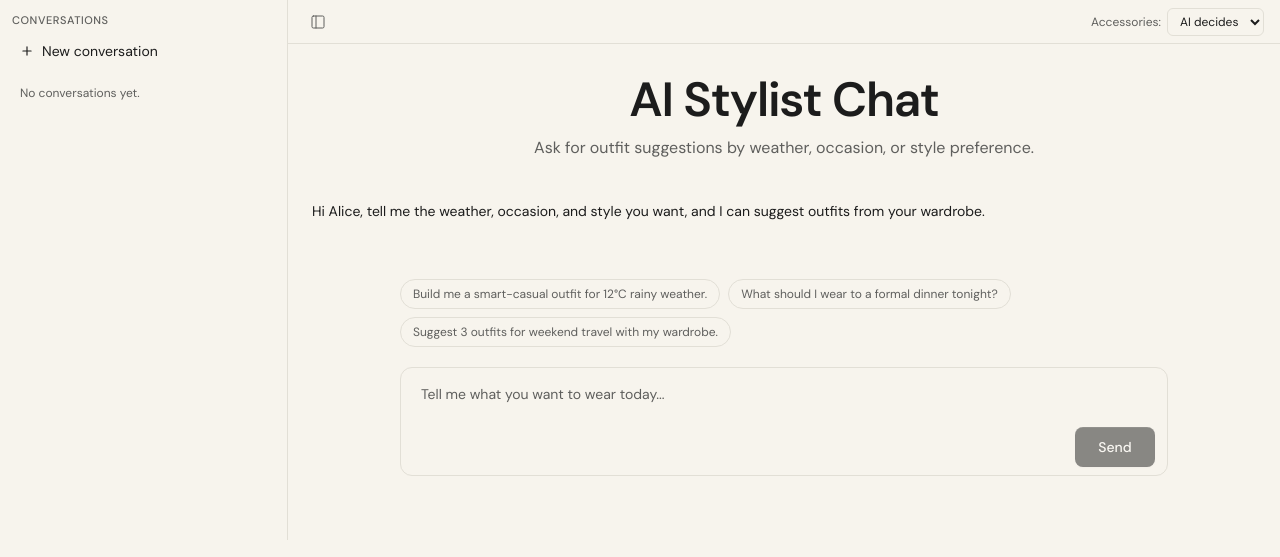
Scenario: ChatPage › sending a message › sends the selected accessory mode in the request payload
Select "Include" in the dropdown labelled "Accessories:": (1216, 22) [1167, 8, 1264, 36]
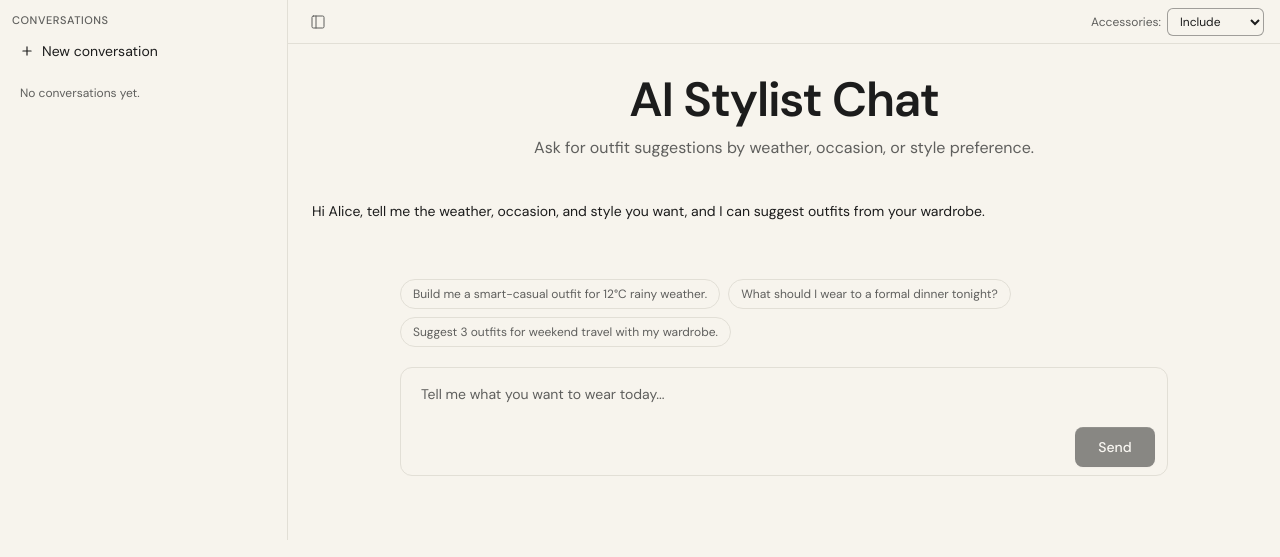
In the text box with placeholder "Tell me what you want to wear today...": (784, 398) [409, 376, 1159, 420], type "Plan an outfit with accessories"
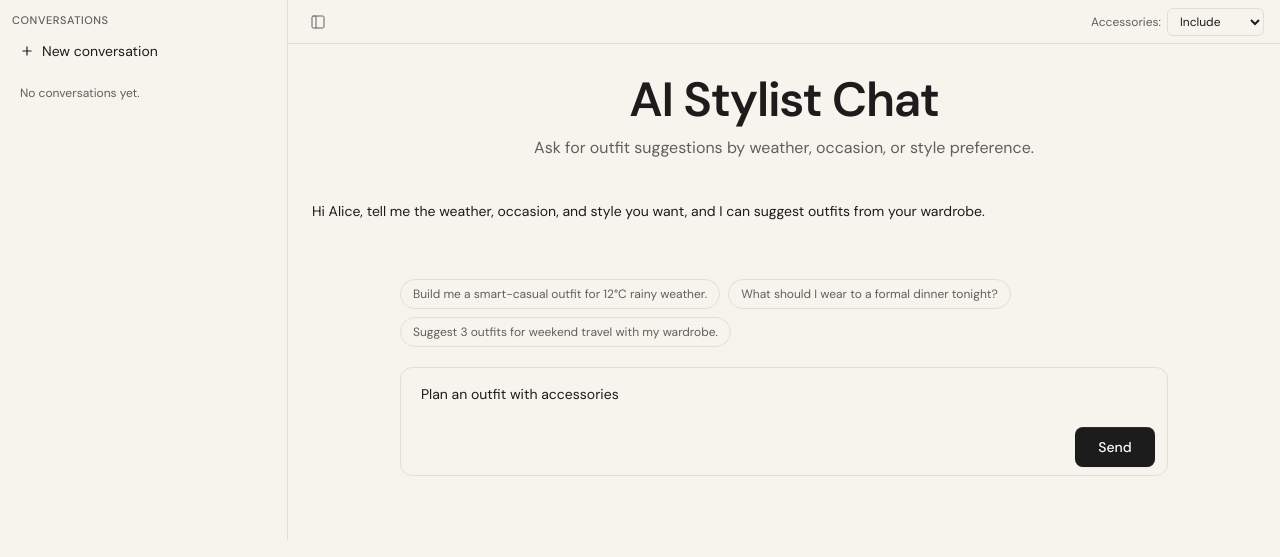
Click the button "Send": click(1115, 447) [1075, 427, 1155, 467]
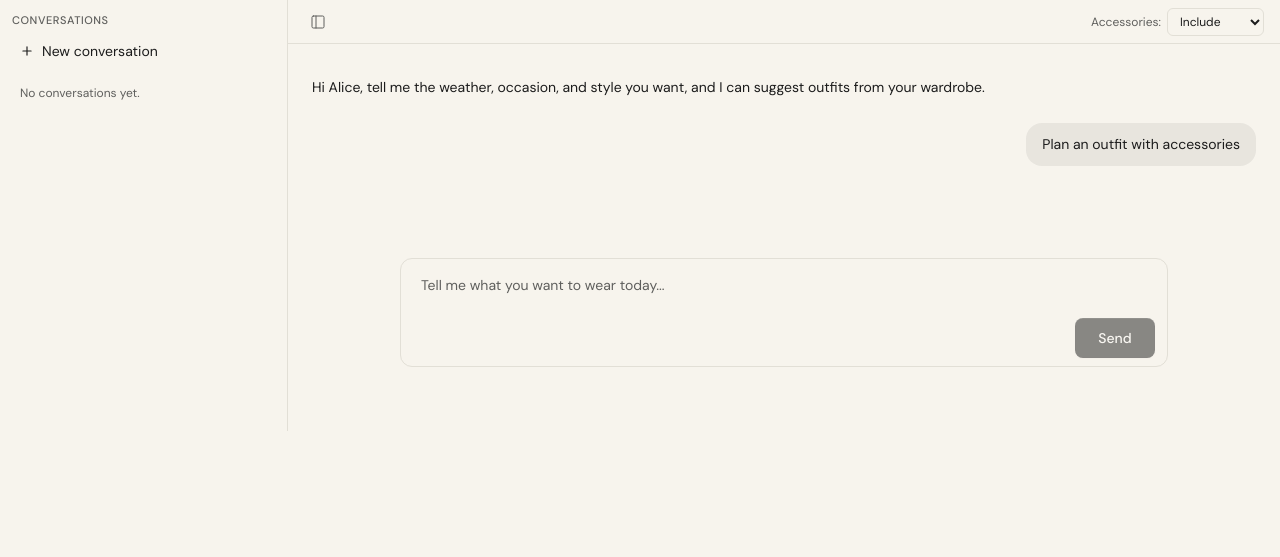
Result: the text "Plan an outfit with accessories" is shown at [1042, 133, 1240, 156]
